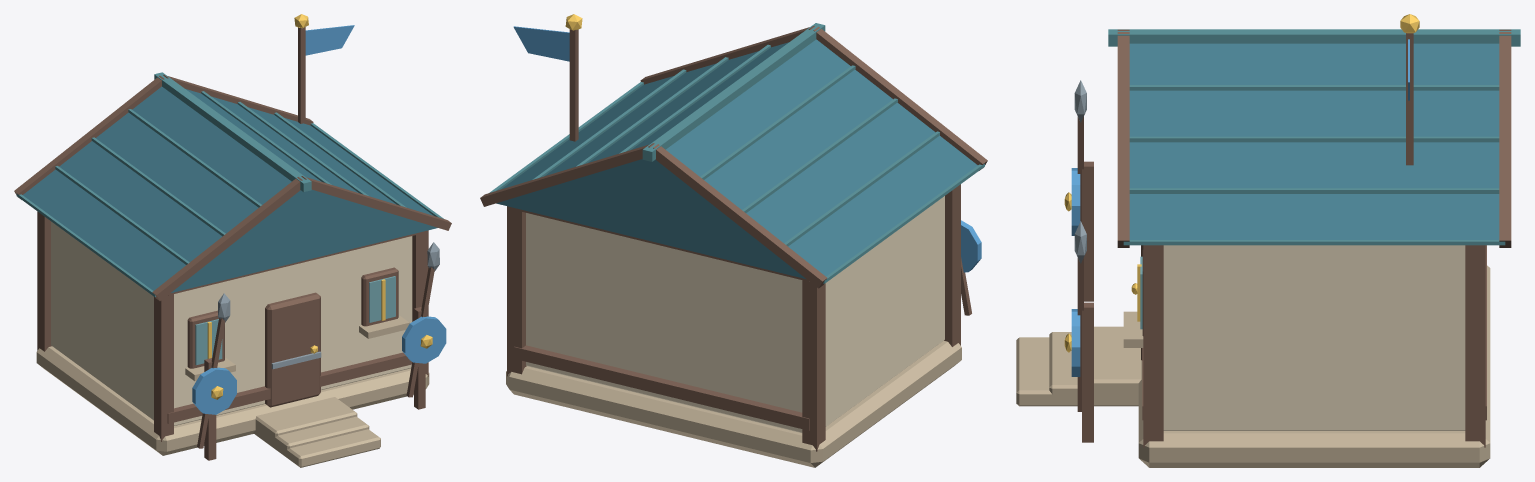
The model's file is barracks.glb.
3 views of the same model, side by side, from view 1: azimuth 30°, elevation 25°; view 2: azimuth 150°, elevation 25°; view 3: azimuth 270°, elevation 25° (orthographic). The views are drawn at different scales.
Visible parts, largest first — view 1: barracks; view 2: barracks; view 3: barracks.
Part boxes in pixels (x1=…): barracks: x1=14, y1=14, x2=451, y2=467; barracks: x1=480, y1=14, x2=987, y2=467; barracks: x1=1016, y1=14, x2=1520, y2=467.
Size of the model in its own units: 4.05 by 4.03 by 4.23.
